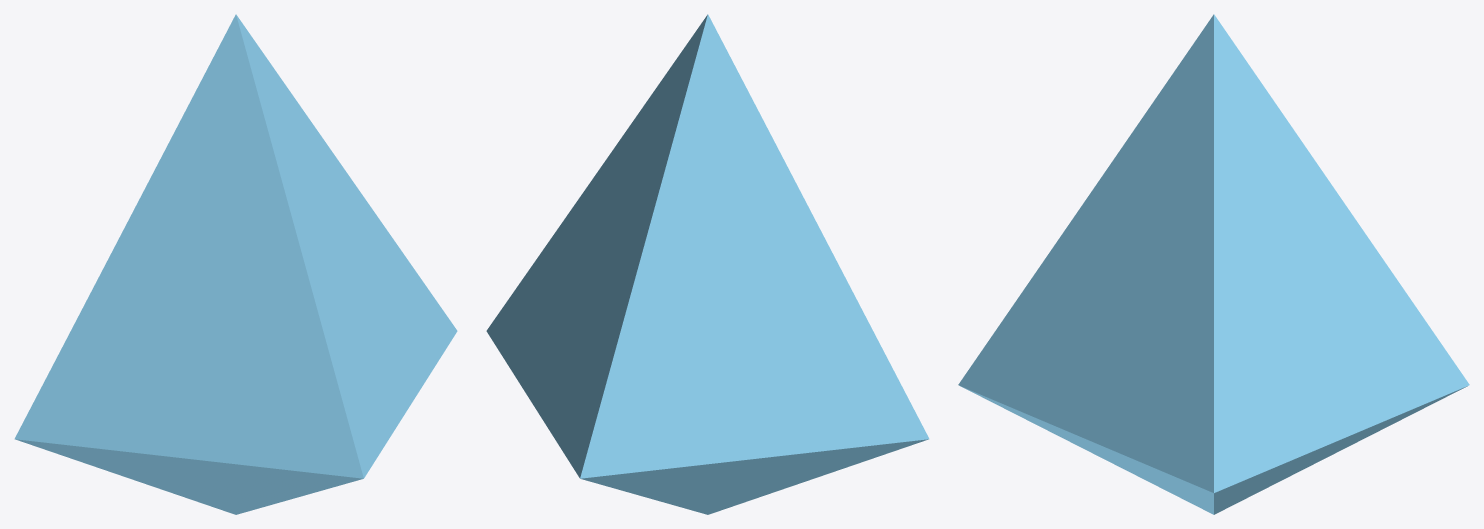
The model's file is linemate.gltf.
3 renders of one model, left to right at view 1: azimuth 30°, elevation 25°; view 2: azimuth 150°, elevation 25°; view 3: azimuth 270°, elevation 25°, orthographic.
Parts seen in each view (by area): view 1: linemate; view 2: linemate; view 3: linemate.
Boxes of the visible parts, x1,y1,x2,y2 form: linemate: (14, 14, 457, 514); linemate: (486, 14, 929, 514); linemate: (958, 14, 1469, 514).
Size of the model in its own units: 0.3 by 0.324 by 0.3.
